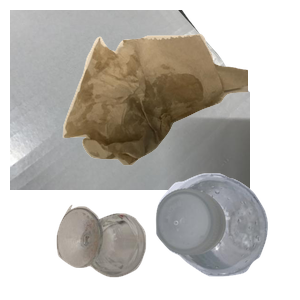cardboard: (10, 10, 250, 190)
glass: (54, 202, 193, 300)
plastic: (153, 170, 300, 300)
trash: (60, 31, 300, 189)
